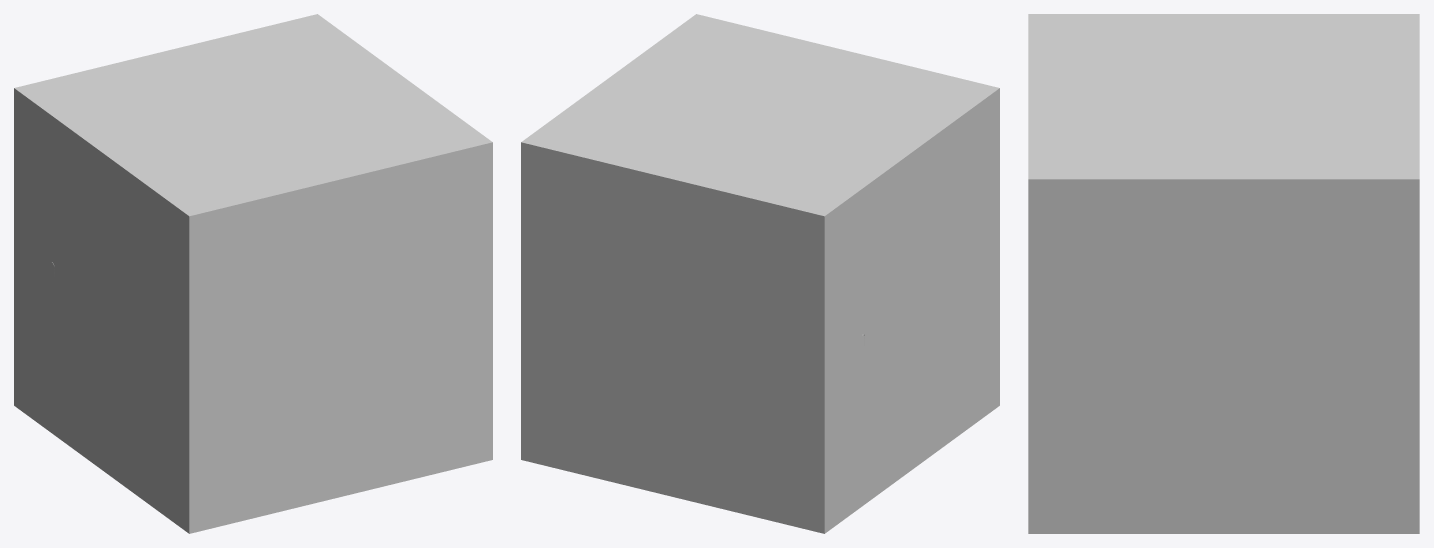
File: stage.fbx
The picture shows the model from 3 angles, left to right: view 1: azimuth 30°, elevation 25°; view 2: azimuth 150°, elevation 25°; view 3: azimuth 270°, elevation 25°; orthographic projection. The views are drawn at different scales.
Parts seen in each view (by area): view 1: 立方体.003; view 2: 立方体.003; view 3: 立方体.003.
Part boxes in pixels (bbox=[...]): 立方体.003: bbox=[14, 14, 492, 533]; 立方体.003: bbox=[521, 14, 999, 533]; 立方体.003: bbox=[1028, 14, 1419, 533].
Bounding box in the file's own units: 20014 × 19994 × 19994.
Materials: 6 (4 with a texture image).
